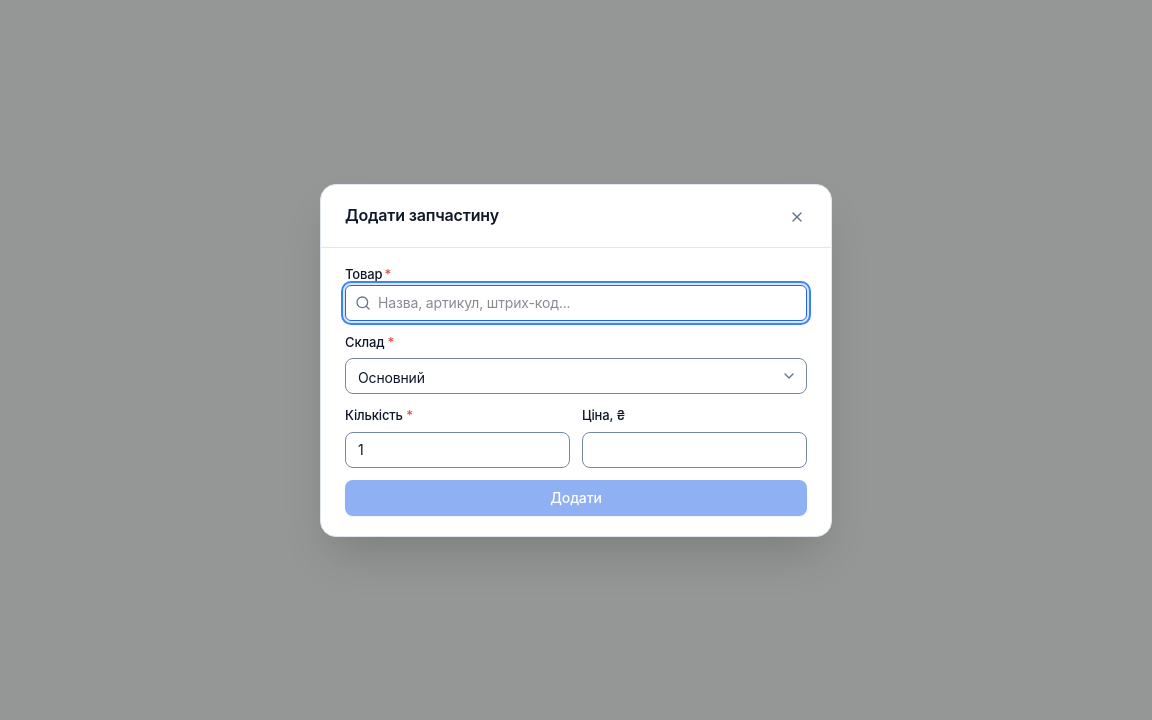
WorkOrderAddPartModal — склад запчастини (BR-WO-029) › на кількох, зокрема на основному → основний
Type "Олива на" into the dropdown with placeholder "Назва, артикул, штрих-код...". click: (576, 302)
box: [345, 284, 807, 320]
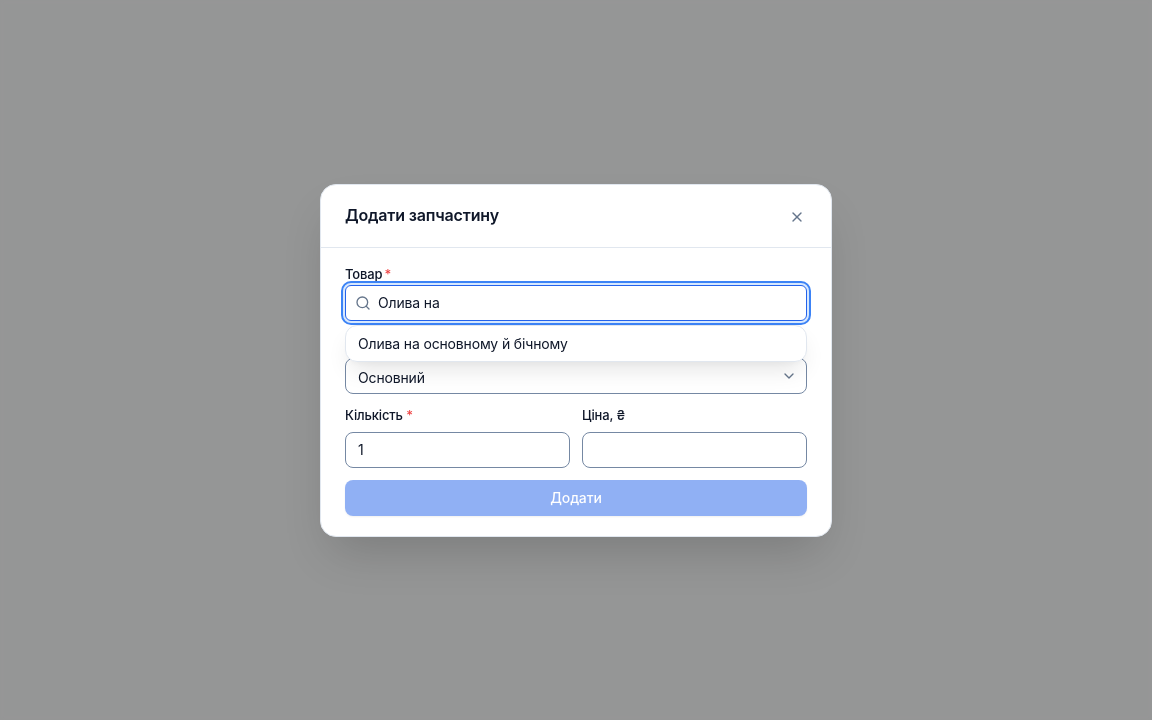
Click the option "Олива на основному й бічному". click: (463, 343)
box: [358, 334, 568, 352]
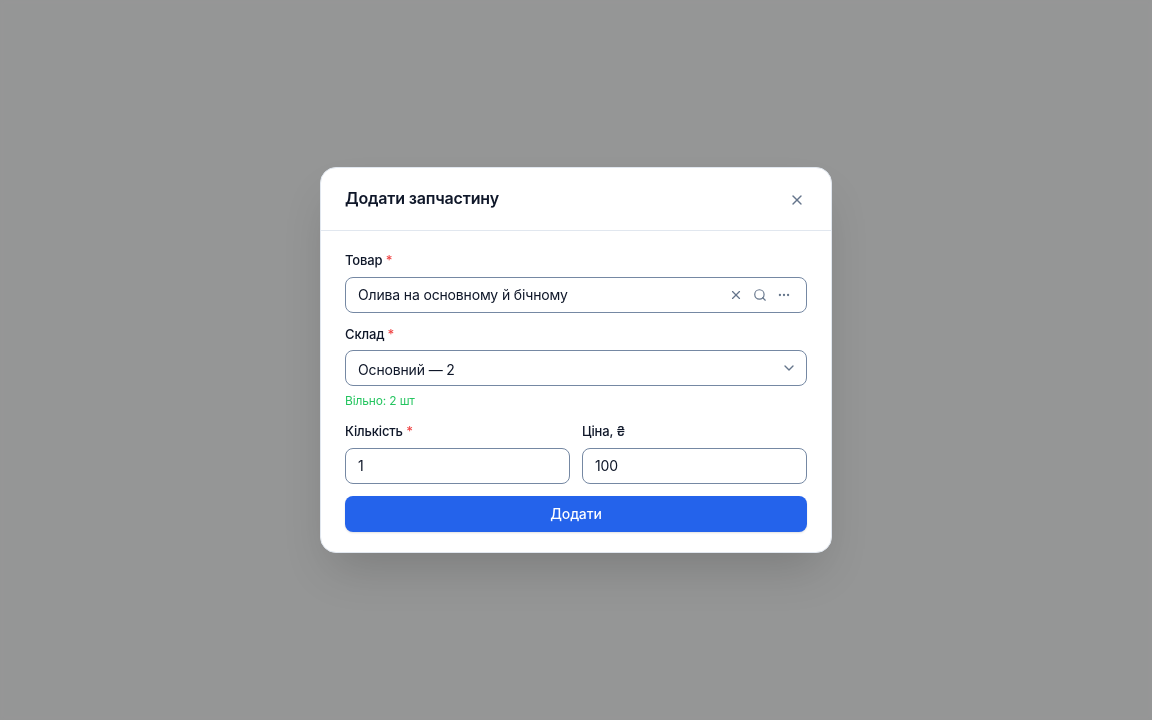
Expected: the dropdown named "Склад" shows "Основний — 2", [345, 350, 807, 386]
